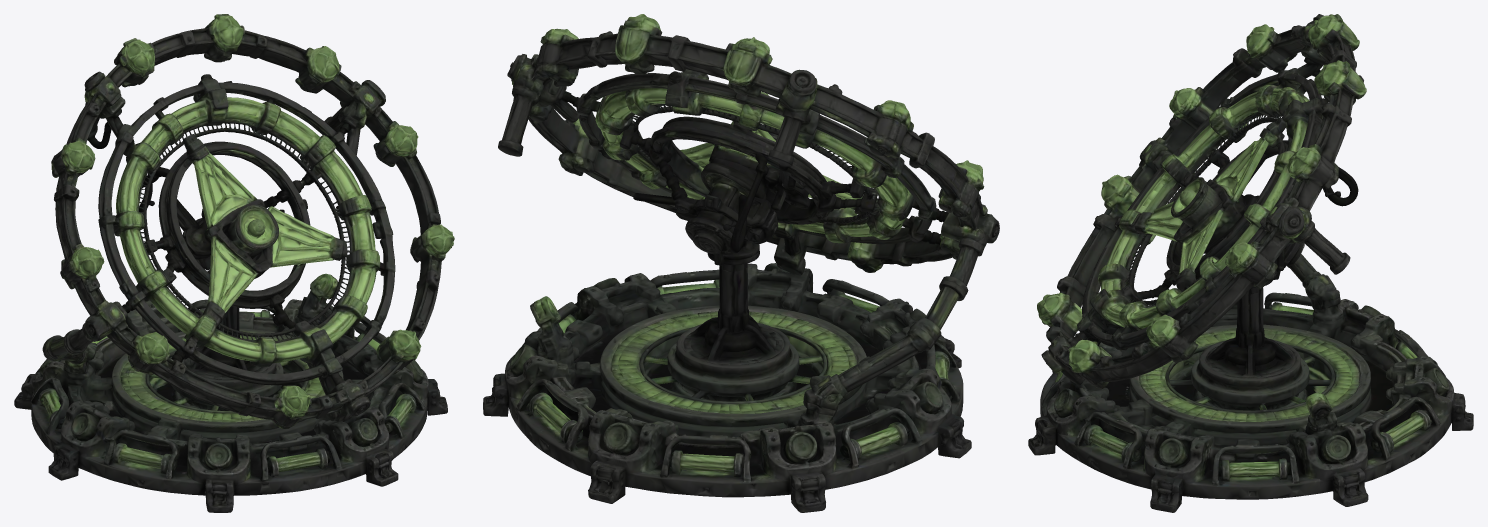
File: sci-fi_prop_web.glb
The picture shows the model from 3 angles, left to right: view 1: azimuth 30°, elevation 25°; view 2: azimuth 150°, elevation 25°; view 3: azimuth 270°, elevation 25°; orthographic projection. The views are drawn at different scales.
Visible parts, largest first — view 1: tripo_node_c8f8d167-064a-4033-8be6-889fee5367f4; view 2: tripo_node_c8f8d167-064a-4033-8be6-889fee5367f4; view 3: tripo_node_c8f8d167-064a-4033-8be6-889fee5367f4.
Boxes of the visible parts, <box> form: tripo_node_c8f8d167-064a-4033-8be6-889fee5367f4: <box>14,14,454,512</box>; tripo_node_c8f8d167-064a-4033-8be6-889fee5367f4: <box>483,14,999,512</box>; tripo_node_c8f8d167-064a-4033-8be6-889fee5367f4: <box>1028,14,1473,512</box>.
Size of the model in its own units: 0.9809 by 0.9104 by 0.9697.
Materials: 1 (1 with a texture image).
